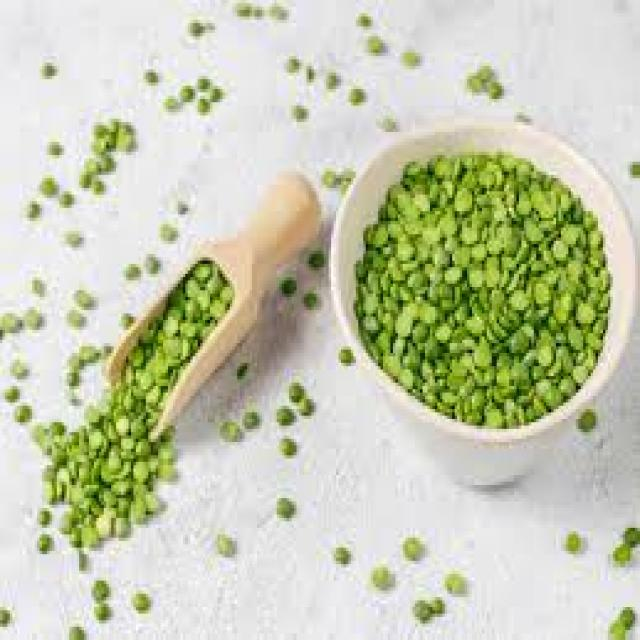peas: (352, 153, 612, 432), (25, 274, 261, 550), (22, 66, 162, 209), (316, 528, 482, 638), (357, 0, 505, 106), (552, 490, 640, 640), (278, 221, 358, 381), (0, 564, 156, 640), (276, 44, 400, 130), (229, 390, 326, 498), (173, 0, 317, 39), (117, 203, 189, 274), (0, 287, 31, 449), (307, 148, 368, 208), (169, 63, 237, 110), (255, 482, 302, 526), (65, 214, 103, 264), (208, 526, 247, 572), (568, 396, 604, 445), (622, 150, 640, 191)
